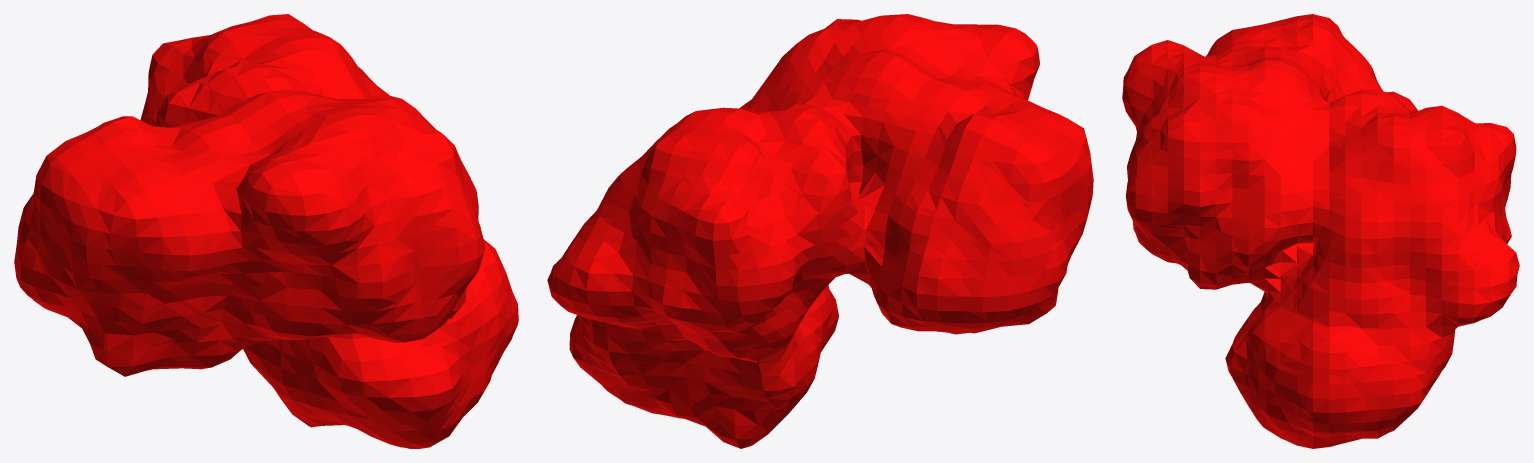
Rendered from Protein_disulfide_isomerase_A4_coarse.dae.
3 renders of one model, left to right at view 1: azimuth 30°, elevation 25°; view 2: azimuth 150°, elevation 25°; view 3: azimuth 270°, elevation 25°, orthographic. The views are drawn at different scales.
Parts seen in each view (by area): view 1: Protein_disulfide_isomerase_A4; view 2: Protein_disulfide_isomerase_A4; view 3: Protein_disulfide_isomerase_A4.
Boxes of the visible parts, left/top/right/bottom form: Protein_disulfide_isomerase_A4: left=14, top=14, right=518, bottom=448; Protein_disulfide_isomerase_A4: left=547, top=14, right=1093, bottom=448; Protein_disulfide_isomerase_A4: left=1122, top=14, right=1519, bottom=448.
Bounding box in the file's own units: 78.57 × 62.55 × 69.46.
